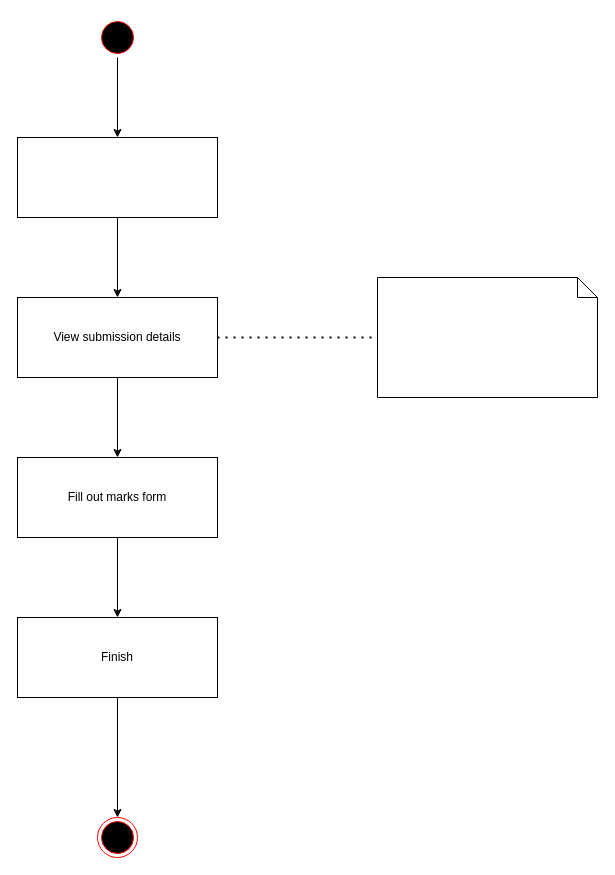
Image size: 615x875. Some labels were removed from this diagram. Each missing label, with the centre of its shape:
"This page includes group details, documents and a form to give marks" goes at (487,337).
"Visit submitted documents page" goes at (117,177).
